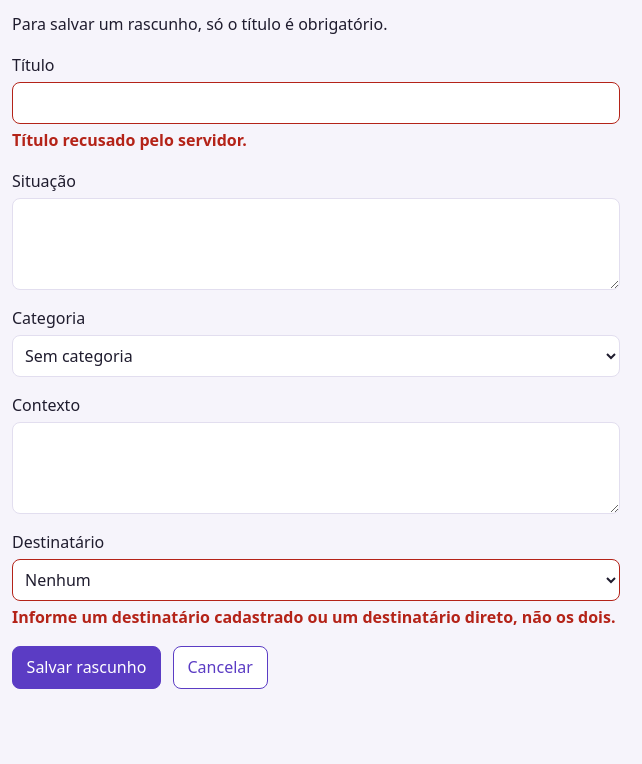
trocar o modo do destinatário descarta os erros do servidor sobre o destinatário
Step 1. Select "Escolher cadastrado" in the dropdown labelled "Destinatário" → (316, 580), box [12,559,620,601]
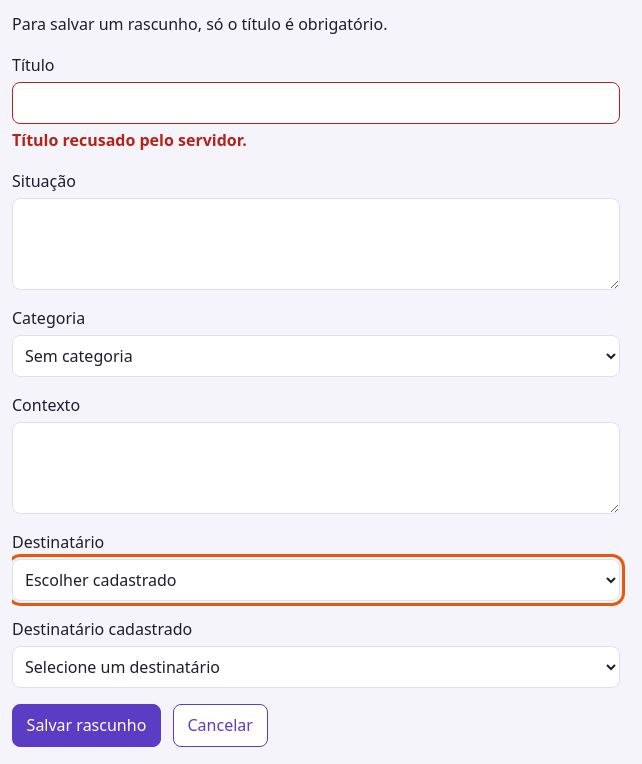
Expected: the dropdown labelled "Destinatário" does not have attribute aria-invalid, [12,559,620,601]
